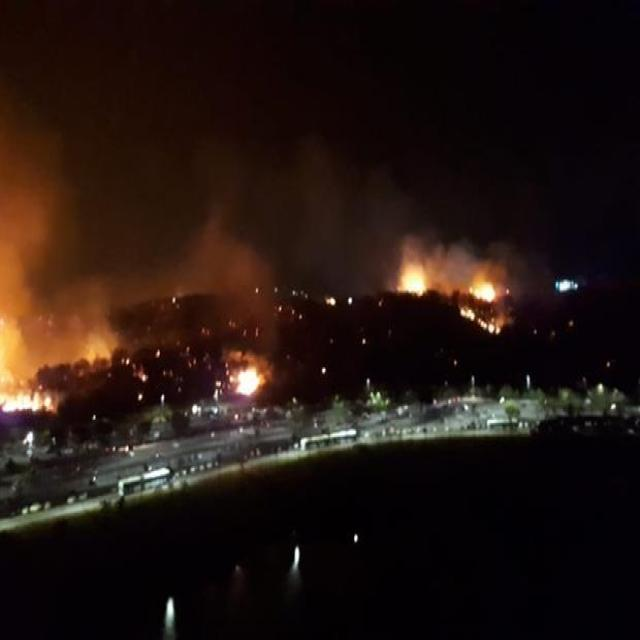Fire: (5, 384, 55, 417), (229, 361, 265, 402), (458, 304, 503, 334), (398, 257, 430, 298), (472, 276, 495, 302)
Smoke: (192, 210, 276, 351), (431, 240, 476, 292), (0, 311, 24, 364), (78, 326, 112, 362)
